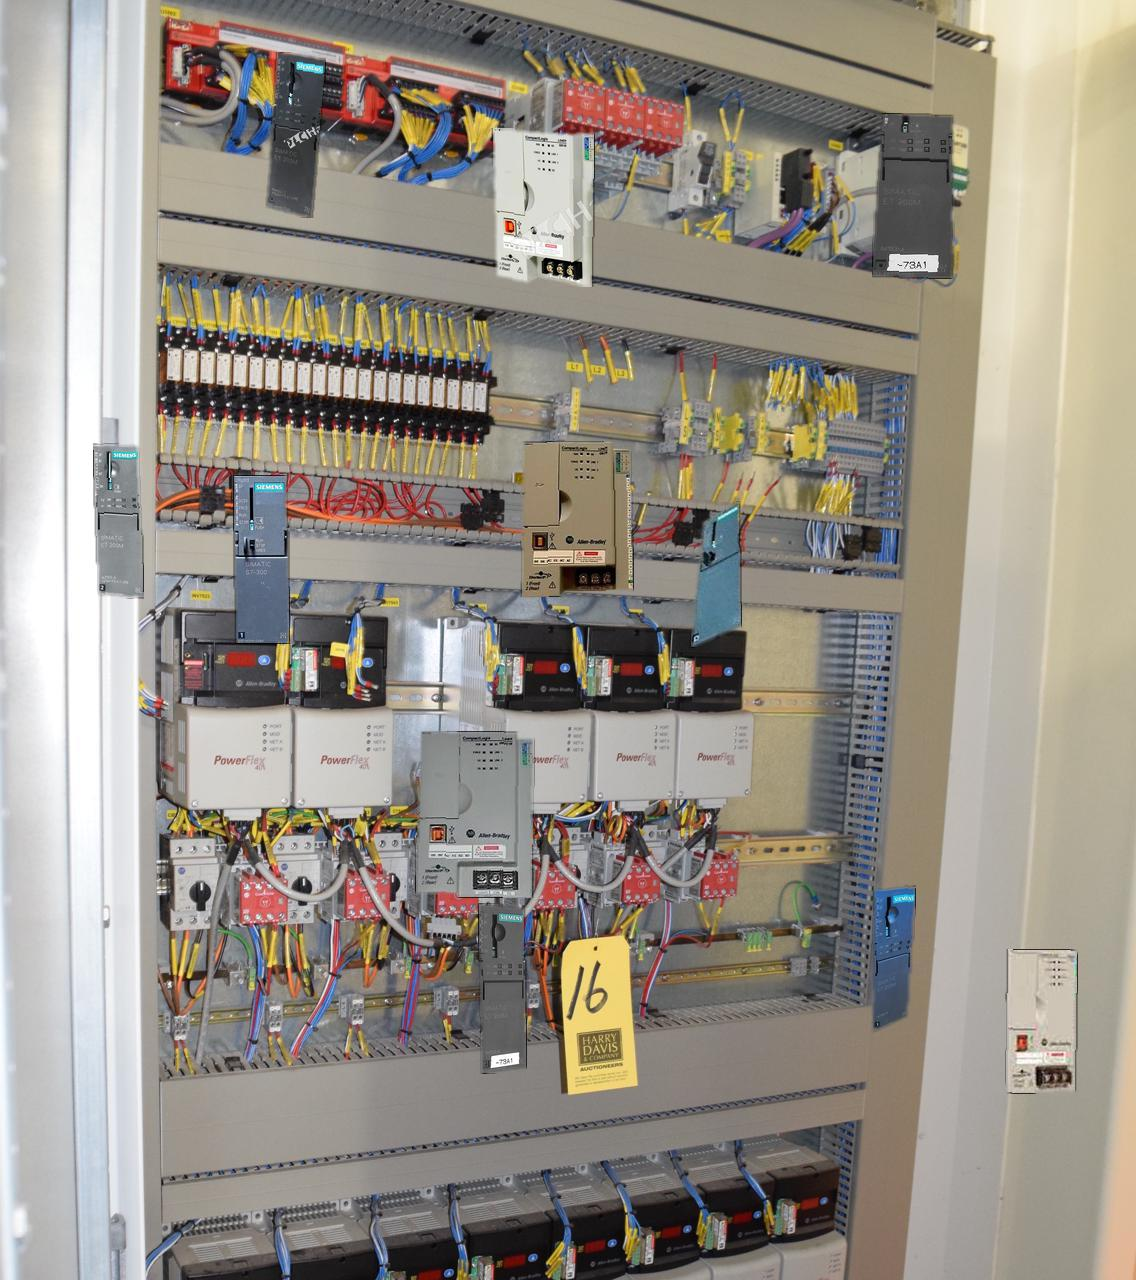AllenBradley: (416, 732, 532, 897), (522, 442, 632, 596), (493, 128, 593, 286), (1007, 949, 1076, 1092)
Siemens: (234, 476, 288, 642), (691, 502, 740, 646)
